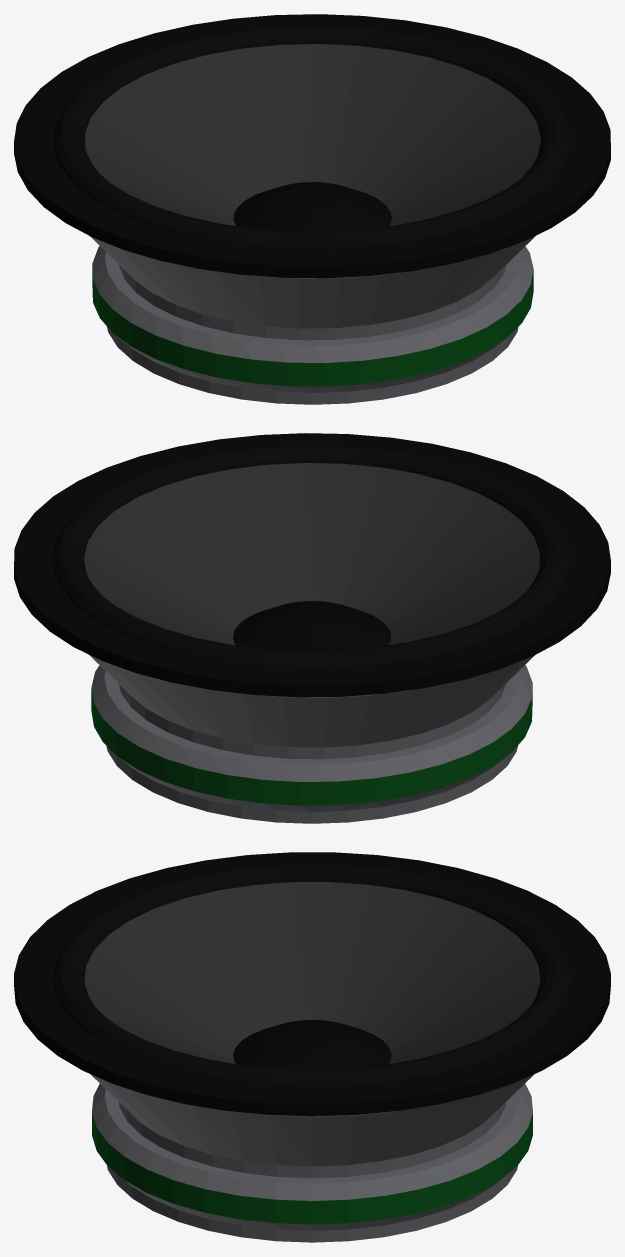
File: speaker.gltf
3 renders of one model, top to bottom at view 1: azimuth 30°, elevation 25°; view 2: azimuth 150°, elevation 25°; view 3: azimuth 270°, elevation 25°, orthographic.
Parts seen in each view (by area): view 1: Speaker; view 2: Speaker; view 3: Speaker.
Part boxes in pixels (box(x1,y1,x2,y2)): Speaker: box(14, 14, 610, 404); Speaker: box(14, 433, 610, 823); Speaker: box(14, 852, 610, 1242).
Size of the model in its own units: 0.2871 by 0.0992 by 0.2873.
